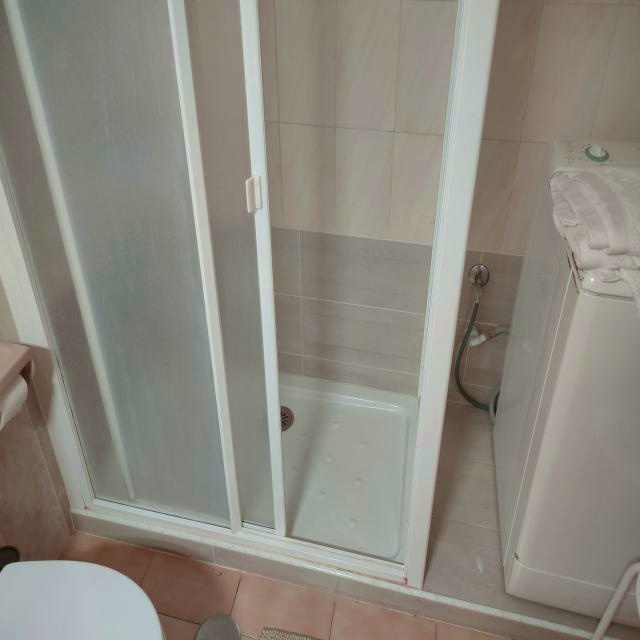table: (0, 561, 165, 640)
